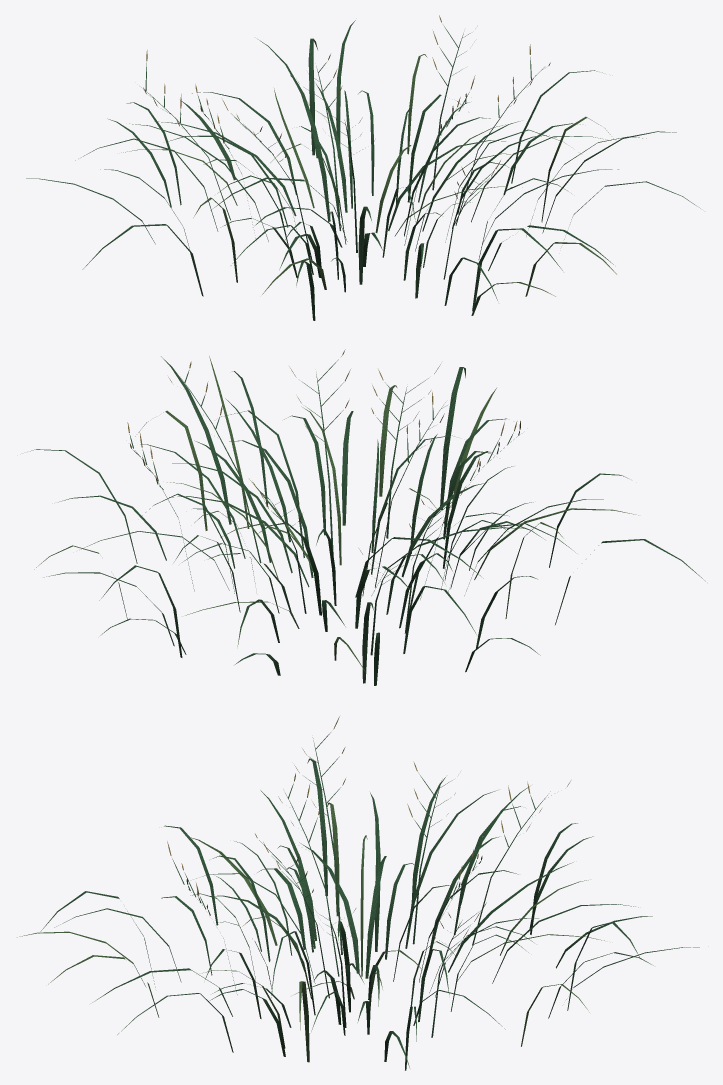
File: creeping-bent.glb
The picture shows the model from 3 angles, top to bottom: view 1: azimuth 30°, elevation 25°; view 2: azimuth 150°, elevation 25°; view 3: azimuth 270°, elevation 25°; orthographic projection. The views are drawn at different scales.
Parts seen in each view (by area): view 1: Creeping bent; view 2: Creeping bent; view 3: Creeping bent.
Part boxes in pixels (x1,y1,x2,y2): Creeping bent: (26, 15, 700, 320); Creeping bent: (30, 349, 705, 685); Creeping bent: (17, 716, 699, 1070).
Bounding box in the file's own units: 0.7645 × 0.2346 × 0.7596.
1 material, 1 textured.
